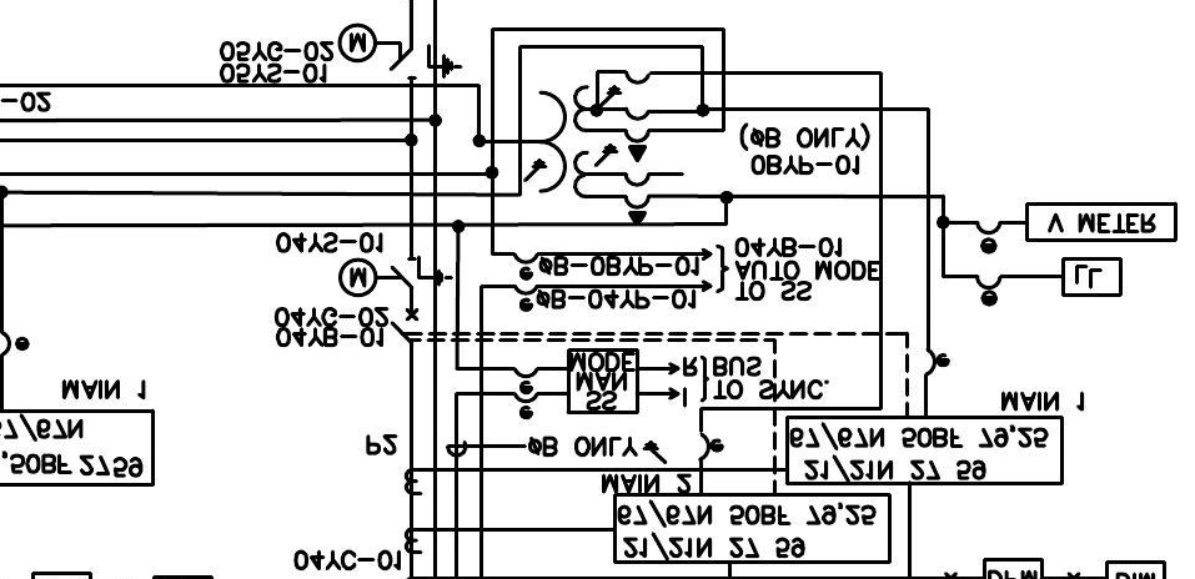115_3ways_ds_w_motor: (337, 22, 463, 80), (337, 255, 454, 298)
115_breaker: (389, 306, 420, 344)
115_vt_1p: (522, 84, 652, 226)
LL: (1059, 255, 1125, 299)
ss_man_mode: (565, 347, 641, 416)
v_m_digital: (1023, 200, 1179, 244)
